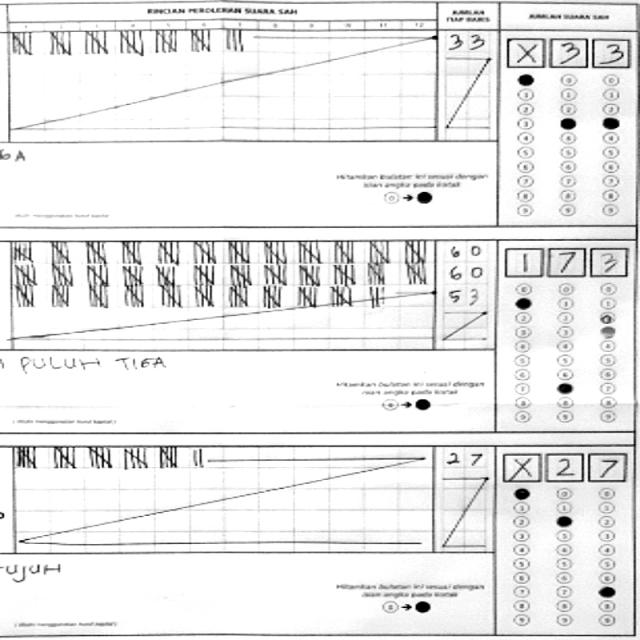Suara: (501, 26, 631, 70), (502, 242, 630, 280), (498, 446, 626, 484)
